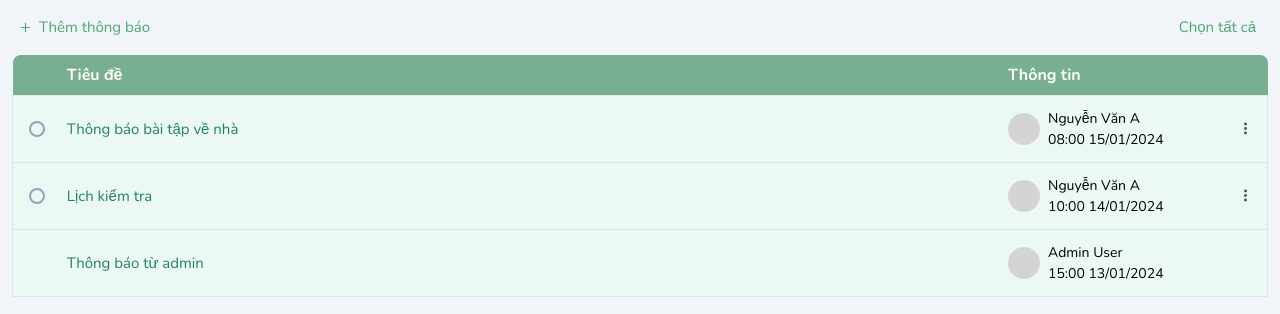
Teacher Class Notifications Page › handles select all functionality
Click the text "Chọn tất cả" at (1217, 27), box [1179,16,1256,38]
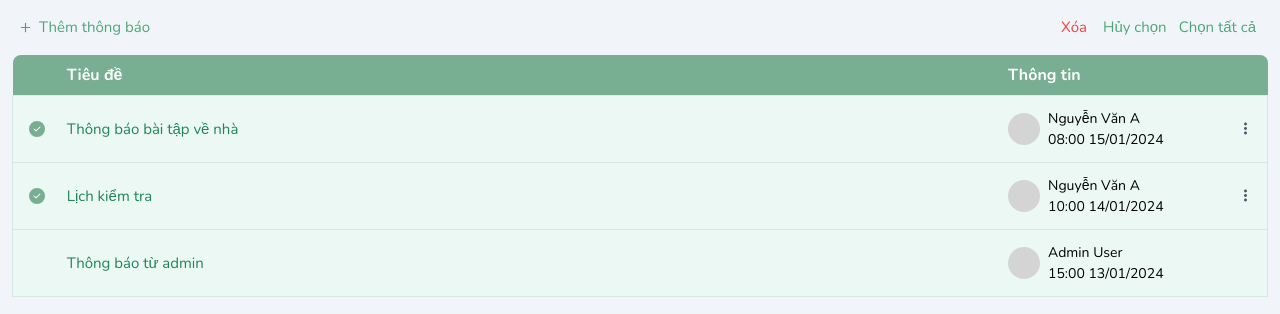
Now the text "Xóa" is shown, box [1061,16,1087,38]
Now the text "Hủy chọn" is shown, box [1103,16,1167,38]
